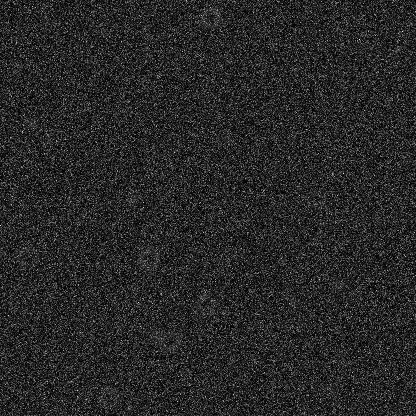Ring: (137, 246, 161, 270), (304, 187, 328, 211), (158, 329, 182, 353), (96, 385, 120, 409), (193, 292, 217, 316), (16, 244, 40, 268), (198, 5, 222, 29)
Spot: (25, 115, 41, 131), (218, 130, 234, 146), (140, 48, 156, 64), (147, 328, 163, 344), (322, 380, 338, 396), (330, 276, 346, 292), (107, 163, 123, 179), (124, 189, 140, 205), (89, 200, 105, 216), (38, 14, 54, 30), (285, 294, 301, 310)
